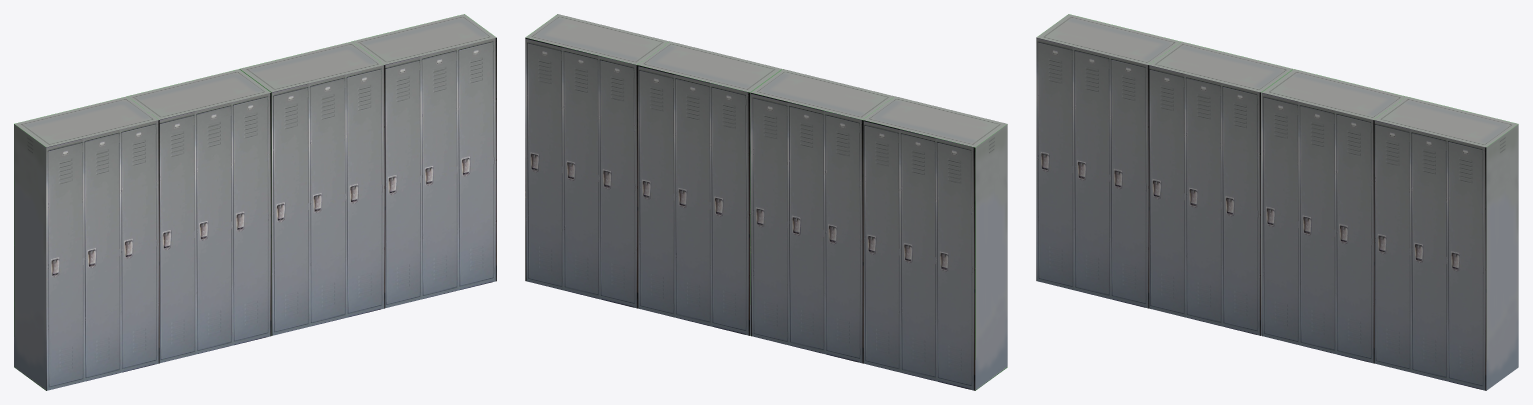
File: lockers.gltf
The picture shows the model from 3 angles, left to right: view 1: azimuth 30°, elevation 25°; view 2: azimuth 150°, elevation 25°; view 3: azimuth 330°, elevation 25°; orthographic projection.
Parts seen in each view (by area): view 1: Wardrobe_01 - Default_0.002, Wardrobe_01 - Default_0.001, Wardrobe_01 - Default_0.003, Wardrobe; view 2: Wardrobe_01 - Default_0.002, Wardrobe, Wardrobe_01 - Default_0.003, Wardrobe_01 - Default_0.001; view 3: Wardrobe, Wardrobe_01 - Default_0.002, Wardrobe_01 - Default_0.001, Wardrobe_01 - Default_0.003.
Boxes of the visible parts, x1,y1,x2,y2 form: Wardrobe_01 - Default_0.002: (14, 96, 159, 390); Wardrobe_01 - Default_0.001: (239, 41, 385, 335); Wardrobe_01 - Default_0.003: (126, 69, 271, 362); Wardrobe: (351, 14, 496, 307); Wardrobe_01 - Default_0.002: (863, 96, 1007, 390); Wardrobe: (525, 14, 668, 308); Wardrobe_01 - Default_0.003: (750, 69, 894, 363); Wardrobe_01 - Default_0.001: (637, 41, 782, 335); Wardrobe: (1374, 96, 1518, 390); Wardrobe_01 - Default_0.002: (1036, 14, 1180, 308); Wardrobe_01 - Default_0.001: (1261, 69, 1405, 363); Wardrobe_01 - Default_0.003: (1148, 41, 1293, 335).
Bounding box in the file's own units: 7.42 × 3.83 × 0.9284.
Materials: 4 (4 with a texture image).
